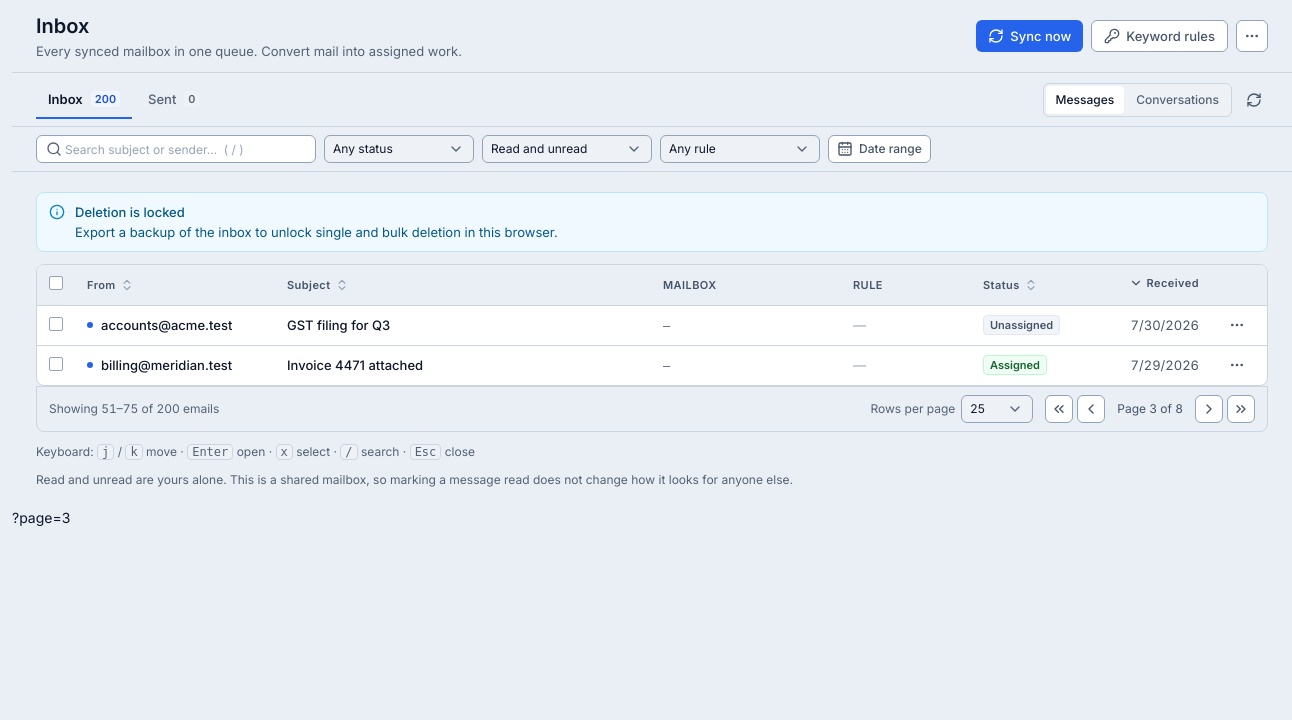
Test case: EmailInbox — filters are URL state › resets to page 1 when a filter changes
The image size is (1292, 720).
Expected: the text "GST filing for Q3" is shown, [287,317,390,333]
Select "Assigned" in the 1st dropdown named "Filter by status" at (399, 149), box [324,135,474,163]
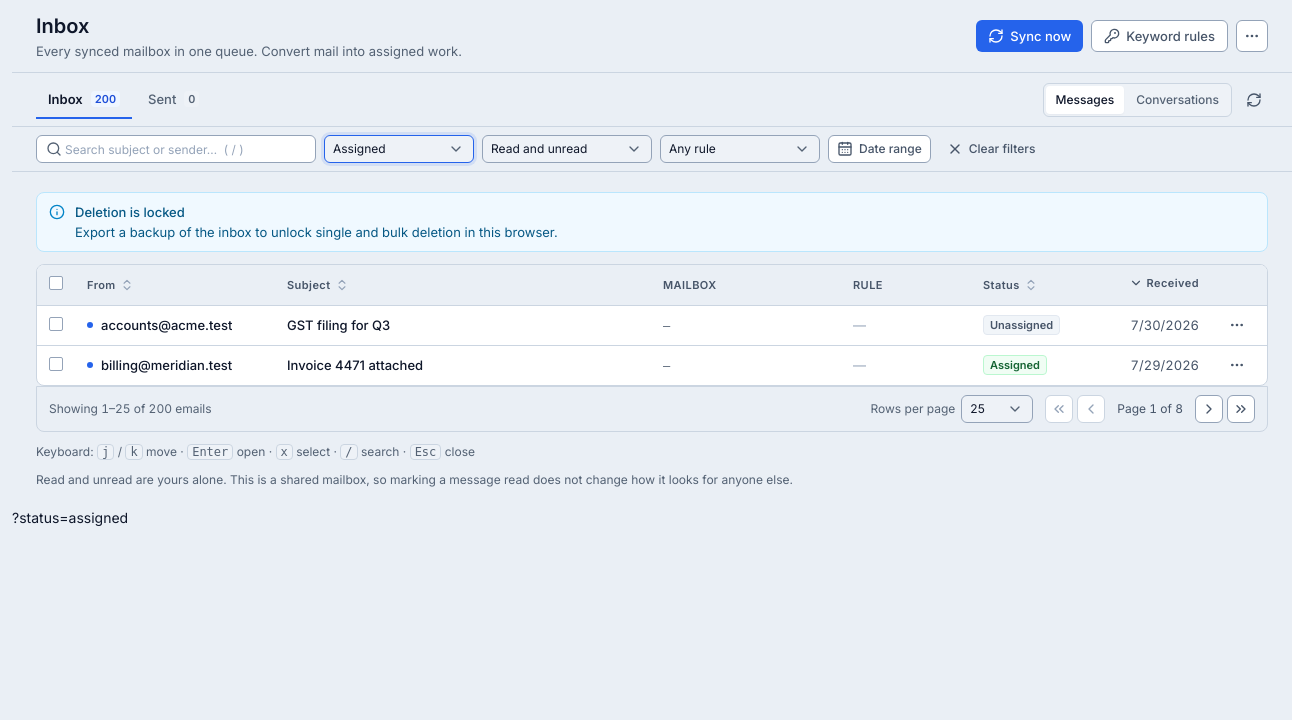
Result: the text with test id "query-string" no longer shows "page=3"
